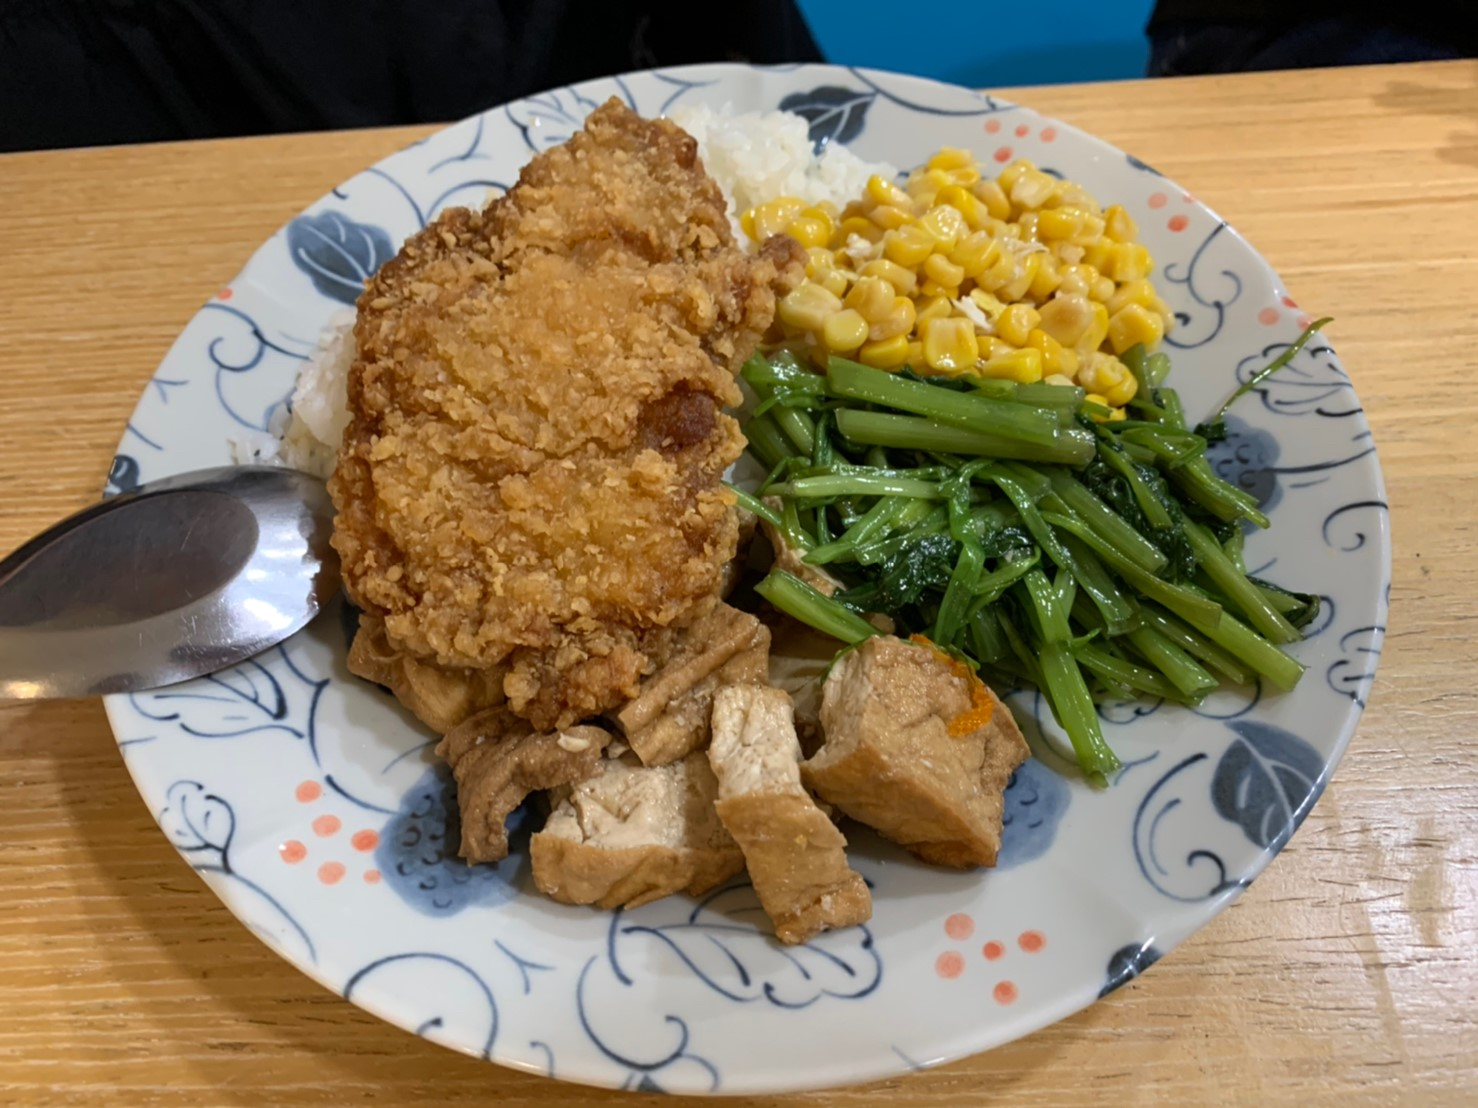fried_chicken: (353, 111, 751, 659)
water_spinach: (753, 341, 1295, 772)
